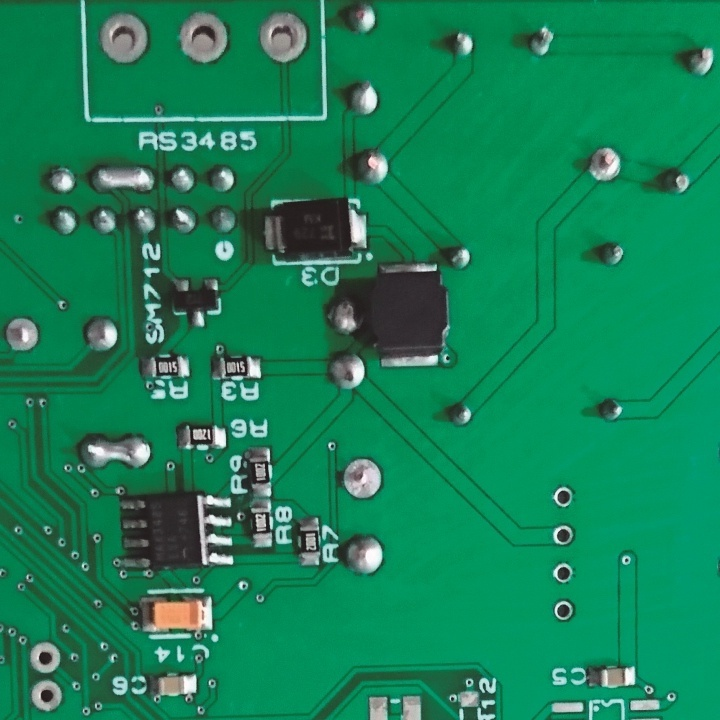F: (101, 10, 156, 69), (256, 10, 311, 66), (176, 10, 230, 63), (343, 456, 384, 500), (6, 314, 44, 358), (587, 145, 626, 183), (29, 641, 67, 676), (30, 680, 64, 717), (549, 520, 579, 552), (549, 598, 579, 625), (553, 486, 577, 512), (550, 563, 578, 584)
P: (78, 428, 155, 469), (87, 164, 160, 195)
